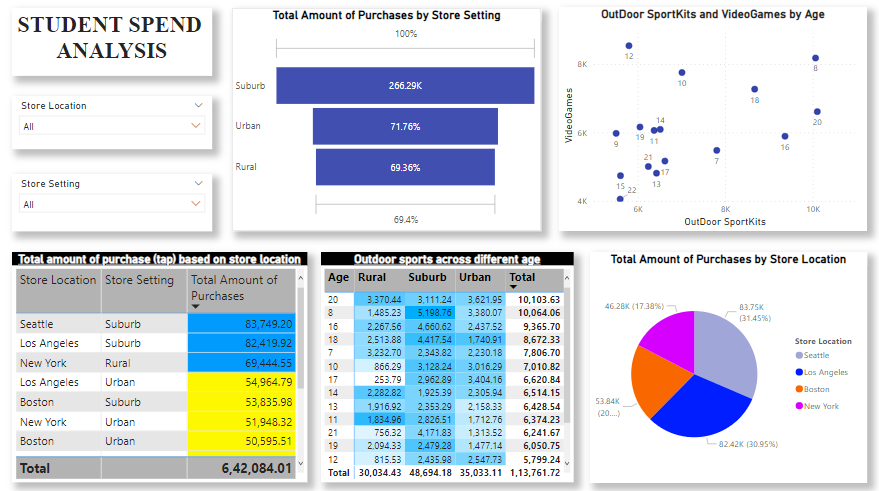

What the dashboard file says about the page in this screenshot:
{"tool":"powerbi","page":{"name":"Page 1","canvas":[1280,720],"ordinal":0},"visuals":[{"type":"tableEx","title":"Total amount of purchase (tap) based on store location","fields":{"Values":["Table 1 (Student Survey).Store Location","Table 1 (Student Survey).Store Setting","Table 1 (Student Survey).Total Amount of Purchases"]},"box":[28.6,376.3,421.6,329.2],"z":0},{"type":"slicer","fields":{"Values":["Table 1 (Student Survey).Store Location"]},"box":[28.6,152.9,285.6,75.6],"z":1000},{"type":"textbox","box":[28.6,26.9,285.6,97.4],"z":2000},{"type":"slicer","fields":{"Values":["Table 1 (Student Survey).Store Setting"]},"box":[28.6,263.7,285.6,82.3],"z":3000},{"type":"funnel","fields":{"Category":["Table 1 (Student Survey).Store Setting"],"Y":["Sum(Table 1 (Student Survey).Total Amount of Purchases)"]},"box":[342.7,26.9,441.8,319.2],"z":4000},{"type":"pivotTable","title":"Outdoor sports across different age","fields":{"Columns":["Table 1 (Student Survey).Store Setting"],"Rows":["Table 1 (Student Survey).Age"],"Values":["Sum(Table 1 (Student Survey).OutDoor SportKits)"]},"box":[470.3,376.3,361.2,329.2],"z":5000},{"type":"pieChart","fields":{"Category":["Student Survey.Store Location"],"Y":["Sum(Student Survey.Total Amount of Purchases)"]},"box":[854,376,396,330],"z":6000},{"type":"scatterChart","fields":{"X":["Sum(Student Survey.OutDoor SportKits)"],"Y":["Sum(Student Survey.VideoGames)"],"Category":["Student Survey.Age"]},"box":[810,26,440,320],"z":7000}]}

Visuals, with their boxes in screenshot pixels (x1, y1, x2, y2), scaled from the page's 1280x720 canvas onto the 879x491 screenshot:
"Total amount of purchase (tap) based on store location" tableEx: 20/257/309/481
slicer - Table 1 (Student Survey).Store Location: 20/104/216/156
textbox: 20/18/216/85
slicer - Table 1 (Student Survey).Store Setting: 20/180/216/236
funnel - Table 1 (Student Survey).Store Setting x Sum(Table 1 (Student Survey).Total Amount of Purchases): 235/18/539/236
"Outdoor sports across different age" pivotTable: 323/257/571/481
pieChart - Student Survey.Store Location x Sum(Student Survey.Total Amount of Purchases): 586/256/858/481
scatterChart - Sum(Student Survey.OutDoor SportKits) x Sum(Student Survey.VideoGames): 556/18/858/236
